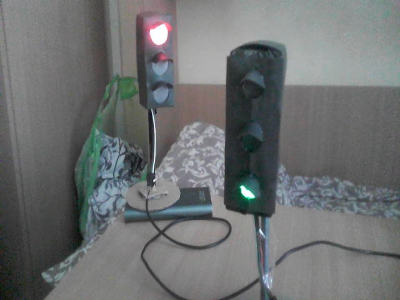trafficlight_green: (224, 51, 276, 210)
trafficlight_red: (143, 15, 175, 106)
